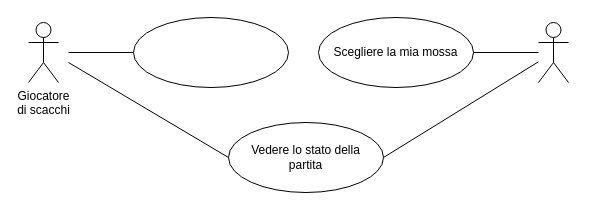
Some shapes in this 595 by 210 pixel diagram are drawn without their labels. The shapes that lost their labels are listed below. From the top down, each one's centre as x and y in pixels, then its label:
At (x=210, y=52): "Giocare la mia mossa".
At (x=553, y=52): "Utente di Twitter".
